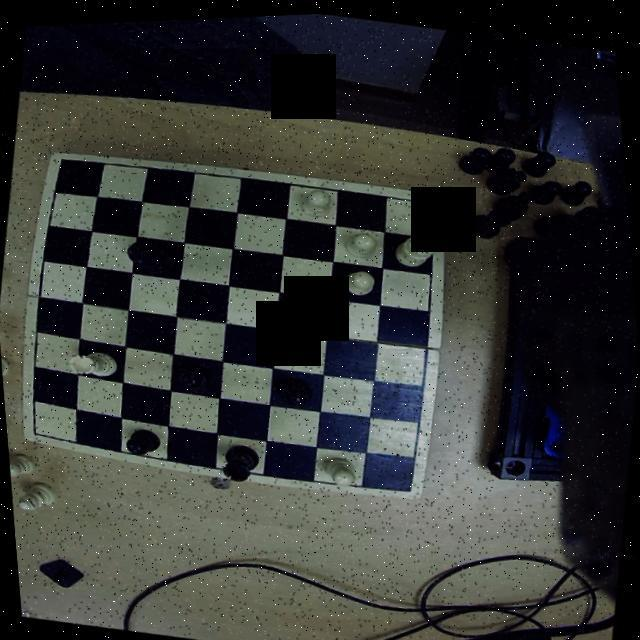chess-table-corners: (392, 468, 422, 496), (48, 148, 80, 172), (418, 188, 446, 215), (21, 416, 47, 441)
